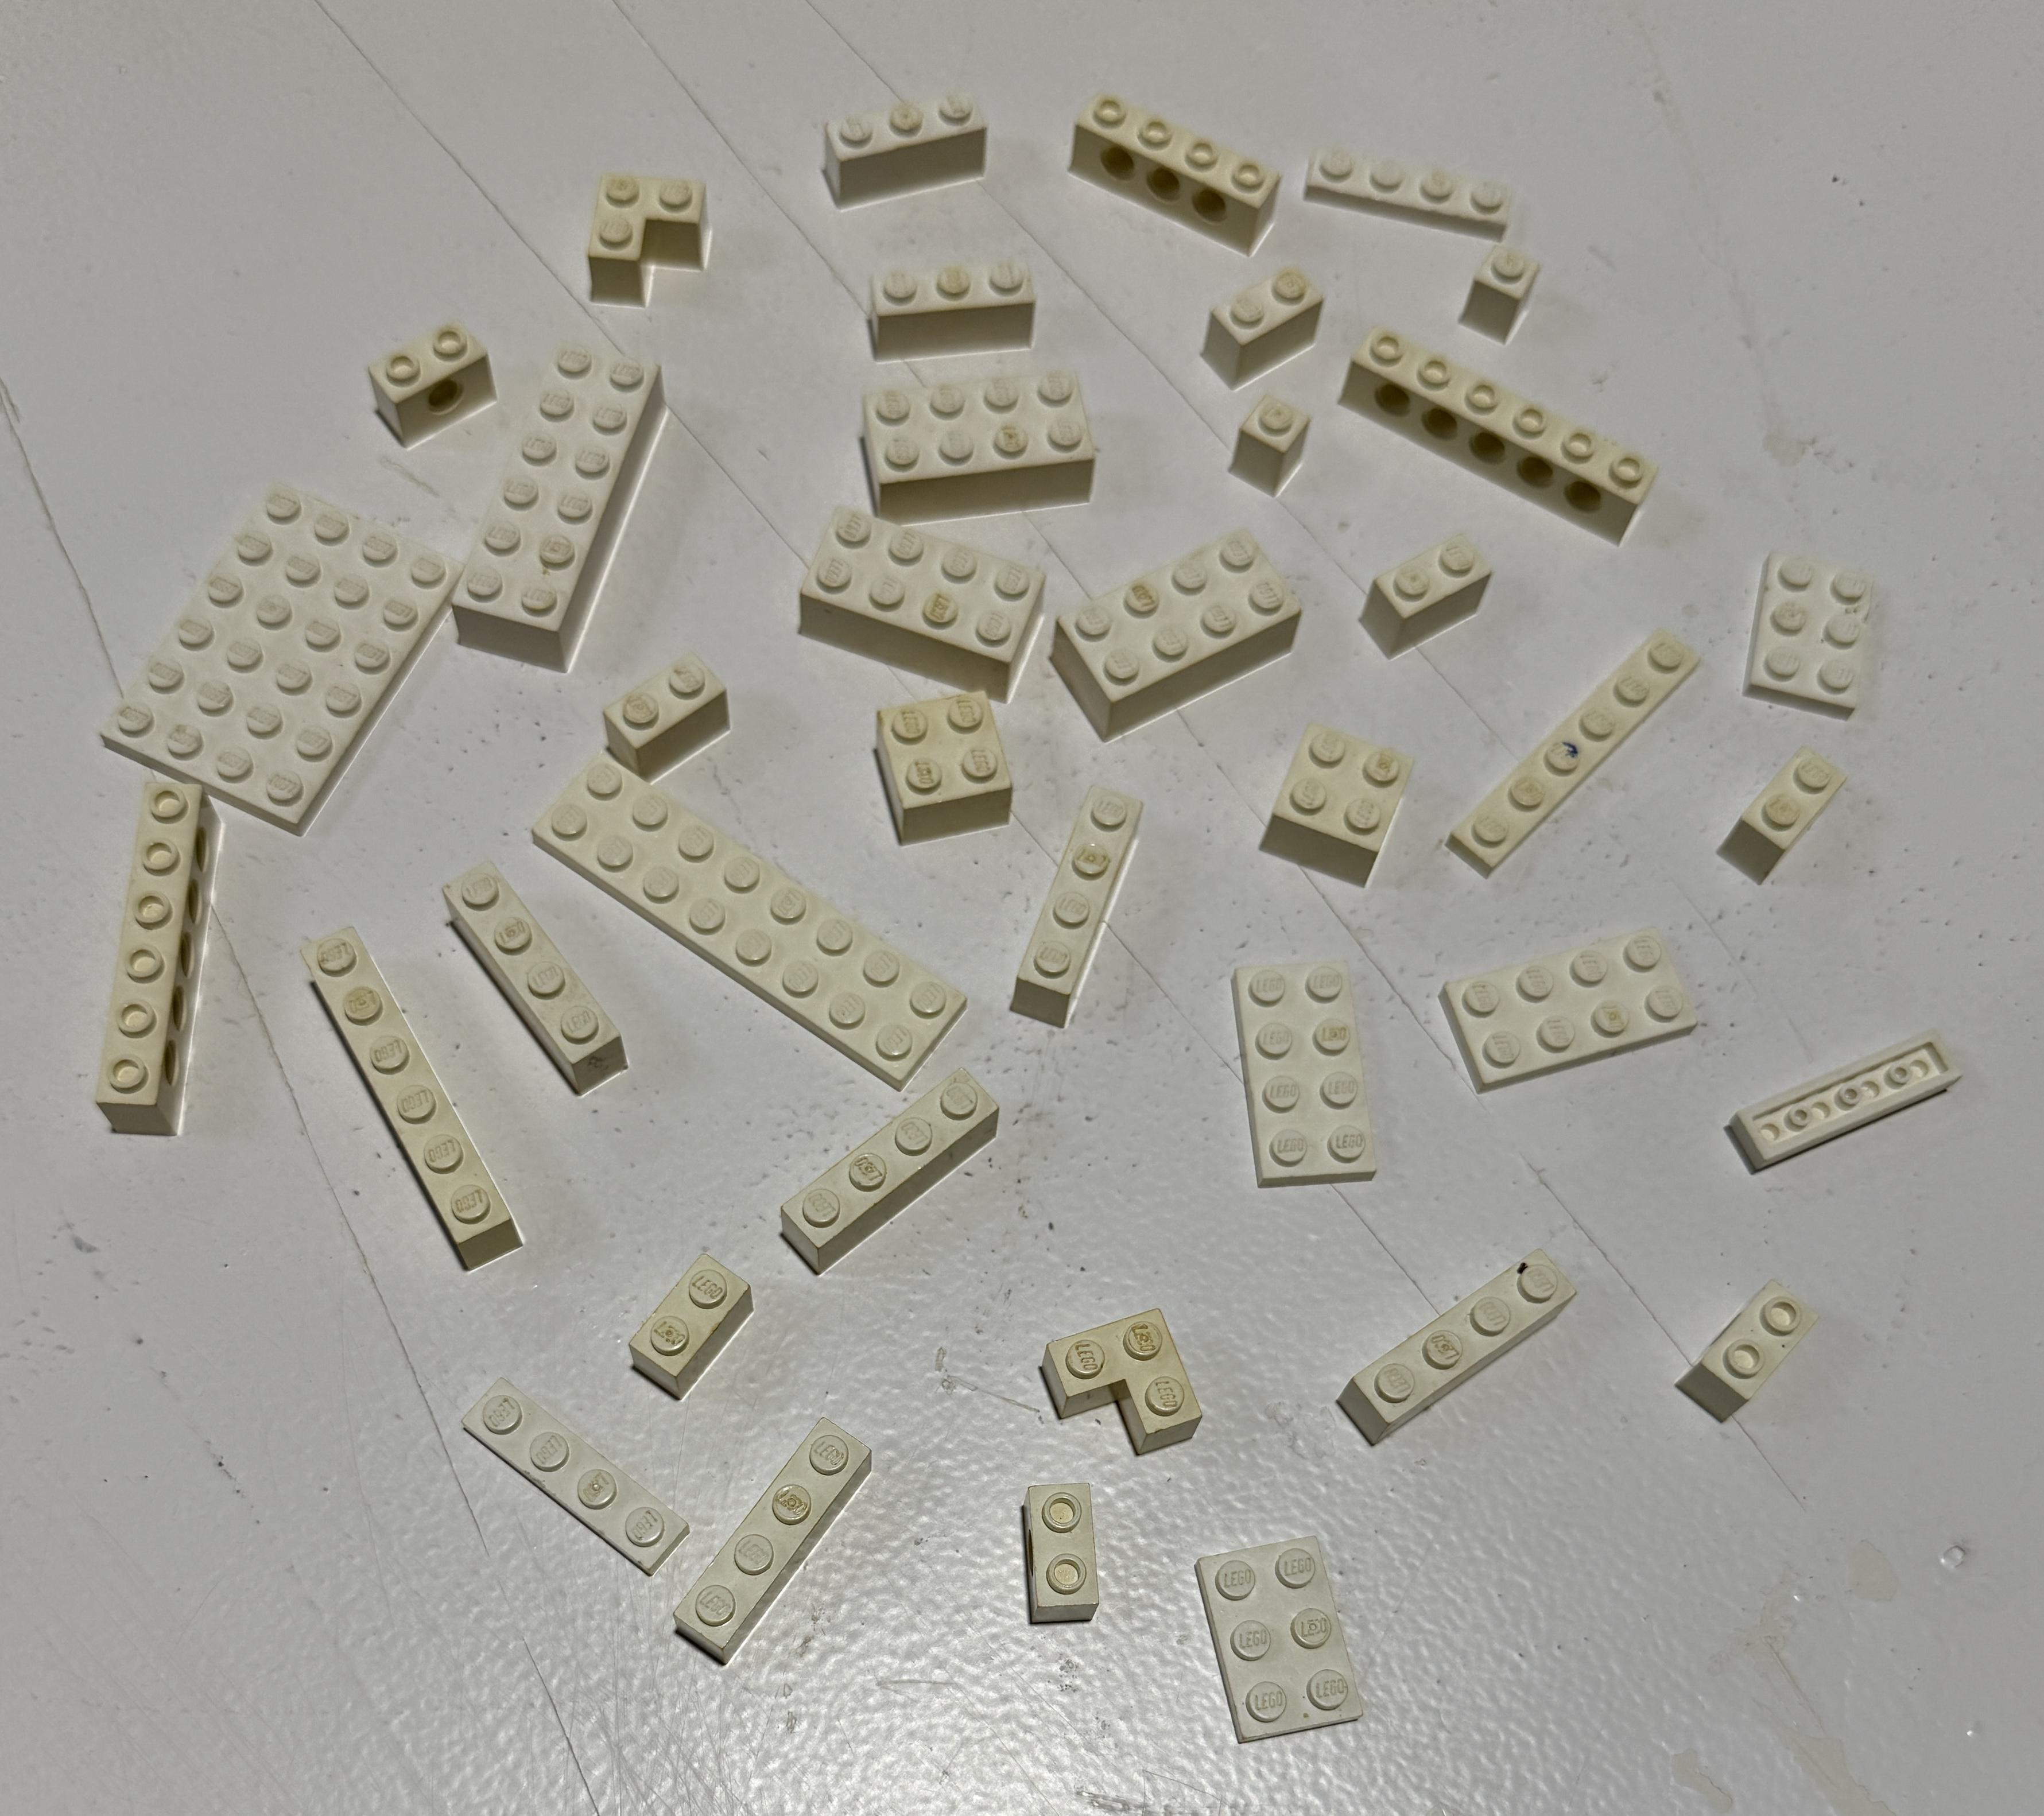brick_1x1: (1450, 200, 1558, 366), (1217, 368, 1338, 507)
brick_1x2: (298, 301, 519, 475), (1650, 1273, 1844, 1450), (577, 638, 777, 784), (1185, 247, 1345, 405), (1346, 507, 1509, 661), (1713, 724, 1851, 903), (605, 1243, 757, 1390), (1001, 1465, 1125, 1641)
brick_1x3: (789, 75, 1029, 235), (841, 247, 1069, 359)
brick_1x4: (752, 1045, 1034, 1301), (661, 1401, 898, 1700), (1317, 1232, 1604, 1465), (422, 841, 656, 1115), (985, 764, 1183, 1045), (1050, 70, 1311, 266)
brick_2x2: (1253, 705, 1430, 913), (847, 666, 1024, 861)
brick_2x4: (1031, 508, 1348, 719), (787, 494, 1061, 729), (841, 340, 1122, 542)
